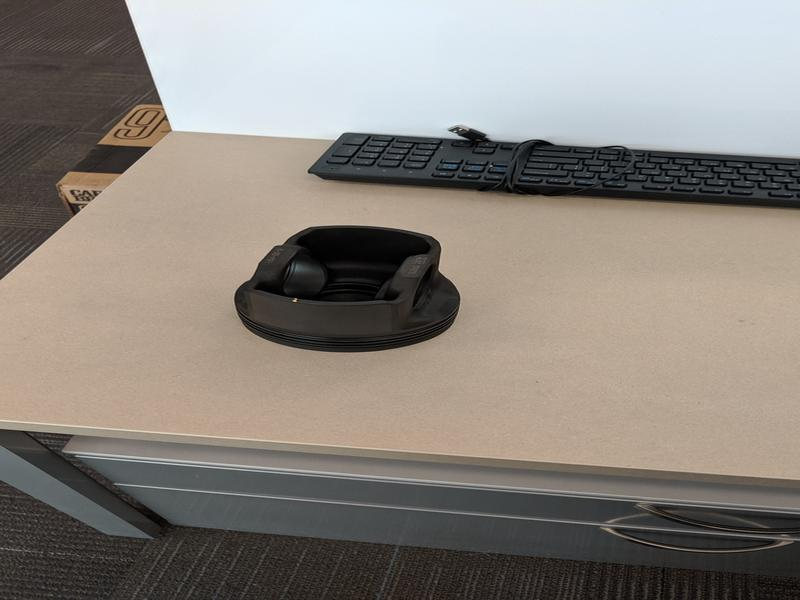piston: (231, 221, 465, 356)
